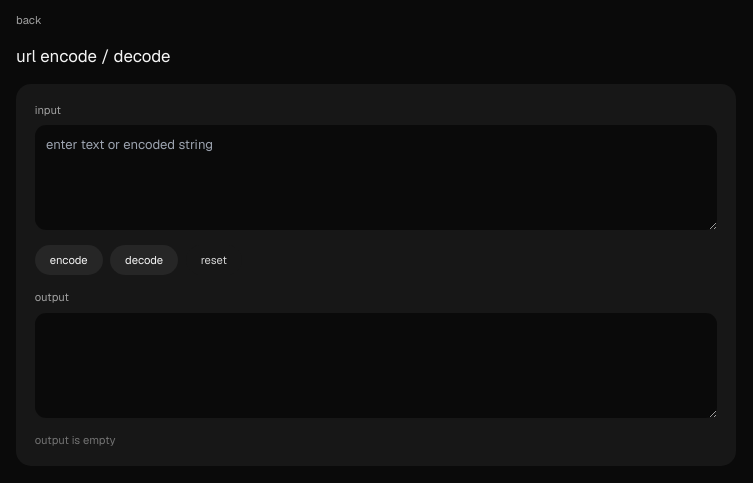
Test: UrlView › encodes url text
The width and height of the screenshot is (753, 483).
In the text box with id "url-input": {"x": 376, "y": 178} x1=35 y1=125 x2=717 y2=230, type "hello world"
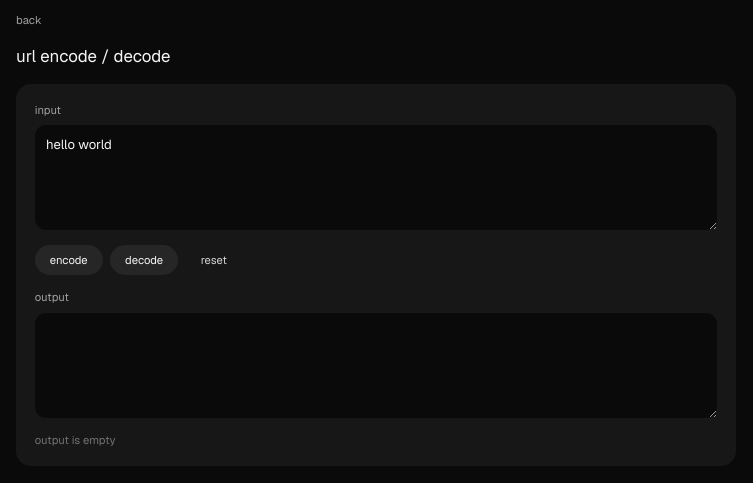
Click the button "encode": {"x": 69, "y": 260} x1=35 y1=245 x2=103 y2=275
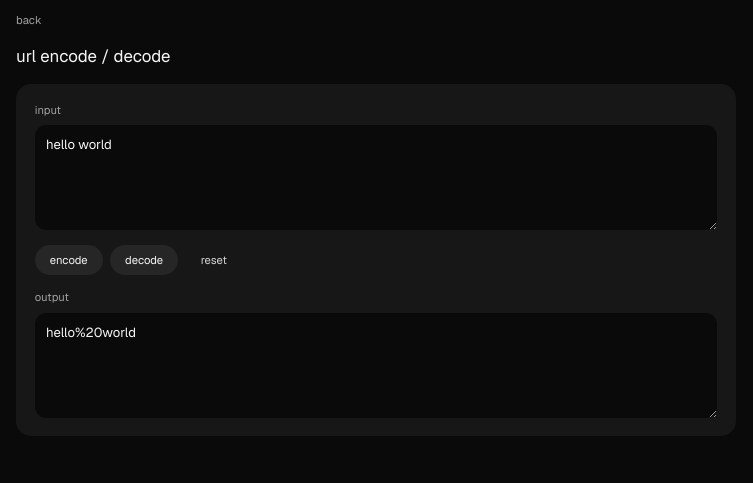
Now the text box with id "url-output" holds "hello%20world", box x1=35 y1=312 x2=717 y2=418
